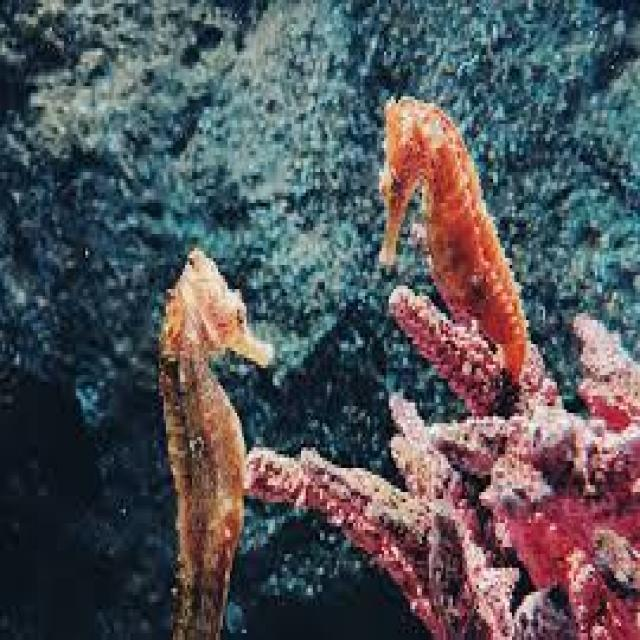SeaHorse: (379, 97, 545, 396), (156, 251, 275, 640)
